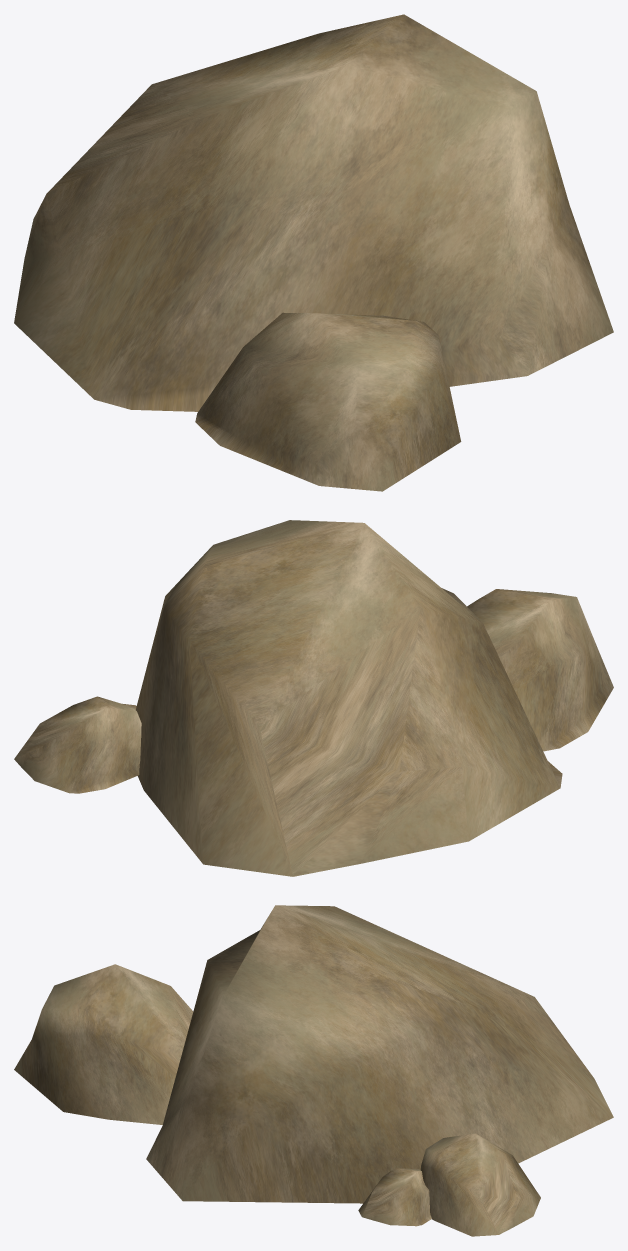
Rendered from rock cluster.fbx.
The picture shows the model from 3 angles, top to bottom: view 1: azimuth 30°, elevation 25°; view 2: azimuth 150°, elevation 25°; view 3: azimuth 270°, elevation 25°; orthographic projection. The views are drawn at different scales.
Parts seen in each view (by area): view 1: pPlatonic12; view 2: pPlatonic12; view 3: pPlatonic12.
Boxes of the visible parts, <box> form: pPlatonic12: <box>14,14,613,491</box>; pPlatonic12: <box>14,520,613,876</box>; pPlatonic12: <box>14,905,613,1236</box>.
Bounding box in the file's own units: 2.56 × 1.2 × 3.02.
1 material, 1 textured.
